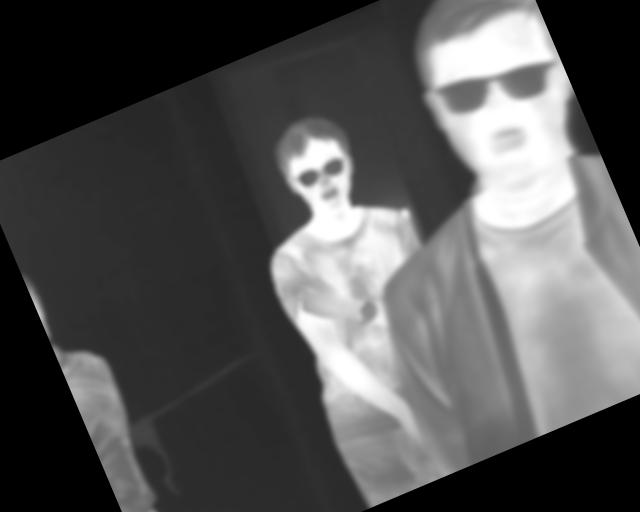face: (383, 1, 600, 208), (264, 104, 372, 227)
